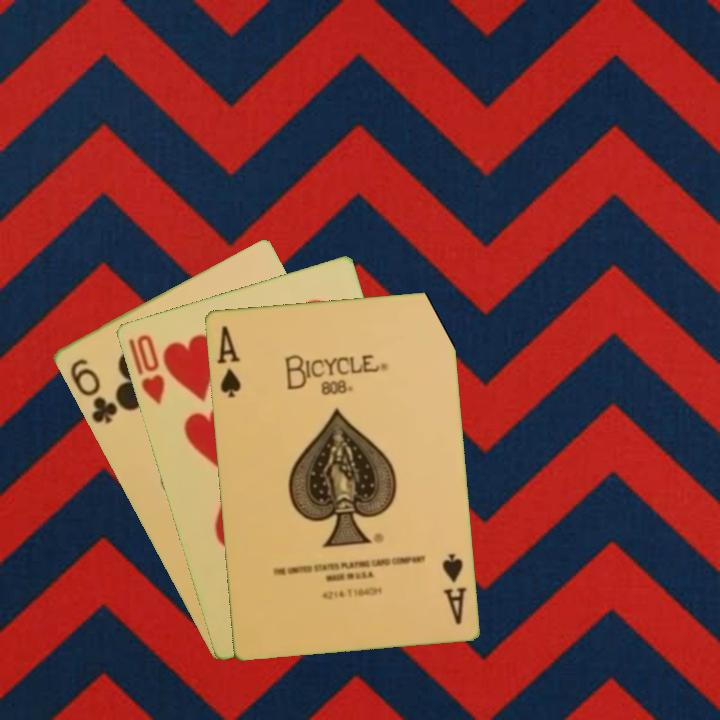10h: (124, 330, 167, 407)
6c: (66, 355, 121, 427)
As: (212, 322, 243, 400), (438, 549, 469, 627)
